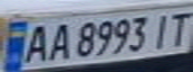3: (127, 12, 154, 53)
8: (72, 18, 96, 60)
9: (109, 16, 136, 56), (90, 17, 115, 57)
A: (18, 21, 54, 64), (45, 20, 72, 62)
I: (148, 10, 175, 49)
T: (163, 8, 193, 47)
